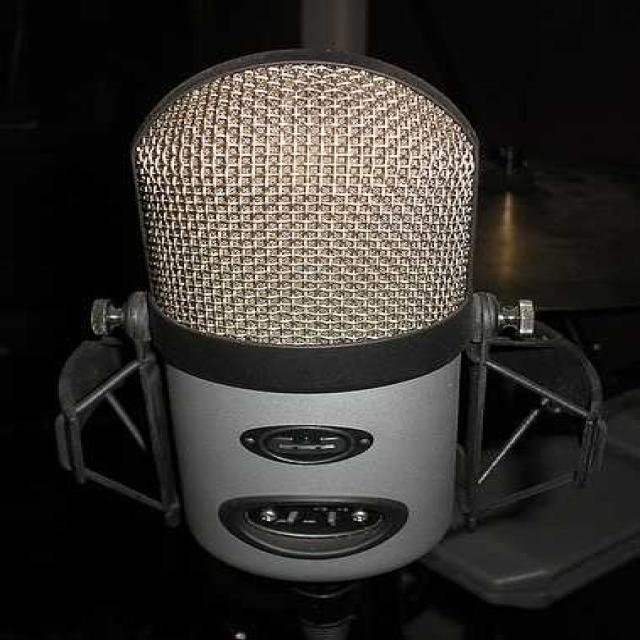microphone: (66, 48, 595, 604)
